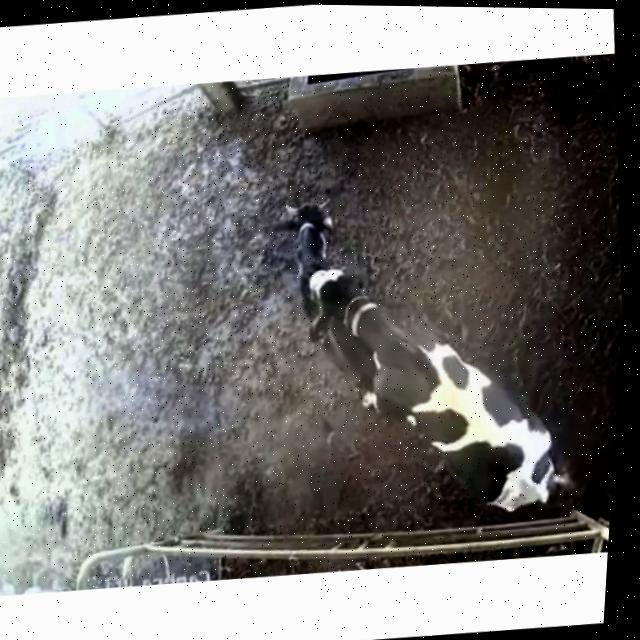ride: (280, 240, 611, 545)
